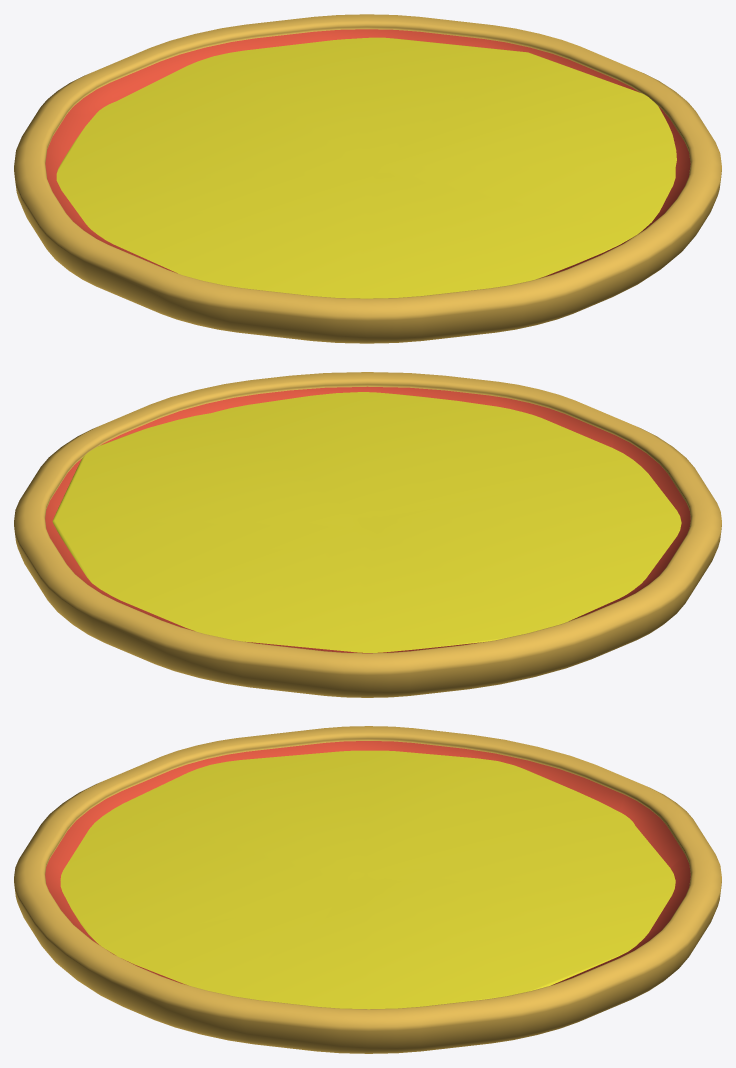
File: PizzaBase.glb
3 renders of one model, top to bottom at view 1: azimuth 30°, elevation 25°; view 2: azimuth 150°, elevation 25°; view 3: azimuth 270°, elevation 25°, orthographic.
Visible parts, largest first — view 1: Queso, Masa; view 2: Queso, Masa; view 3: Queso, Masa.
Boxes of the visible parts, x1,y1,x2,y2 form: Queso: (56, 37, 676, 298); Masa: (14, 14, 721, 343); Queso: (52, 392, 681, 652); Masa: (14, 372, 721, 697); Queso: (60, 750, 675, 1009); Masa: (14, 726, 721, 1053).
Bounding box in the file's own units: 5.73 × 0.378 × 5.72.
